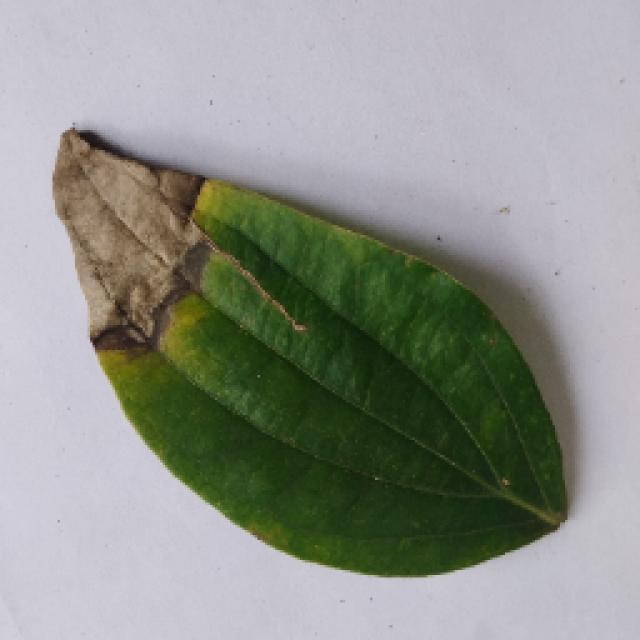footrot: (58, 128, 572, 582)
